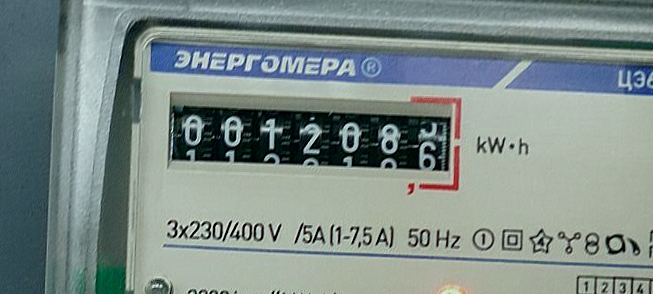0: (337, 117, 363, 152), (220, 110, 244, 147), (182, 109, 203, 146)
1: (261, 113, 279, 150)
2: (298, 119, 325, 154)
6: (415, 135, 438, 170)
8: (376, 119, 400, 155)
screen: (156, 78, 471, 204)
